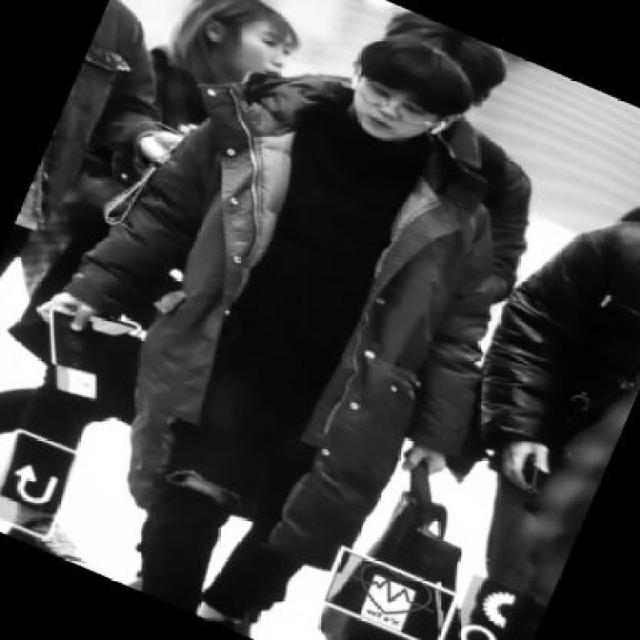earphone: (429, 109, 458, 149), (345, 63, 361, 96)
